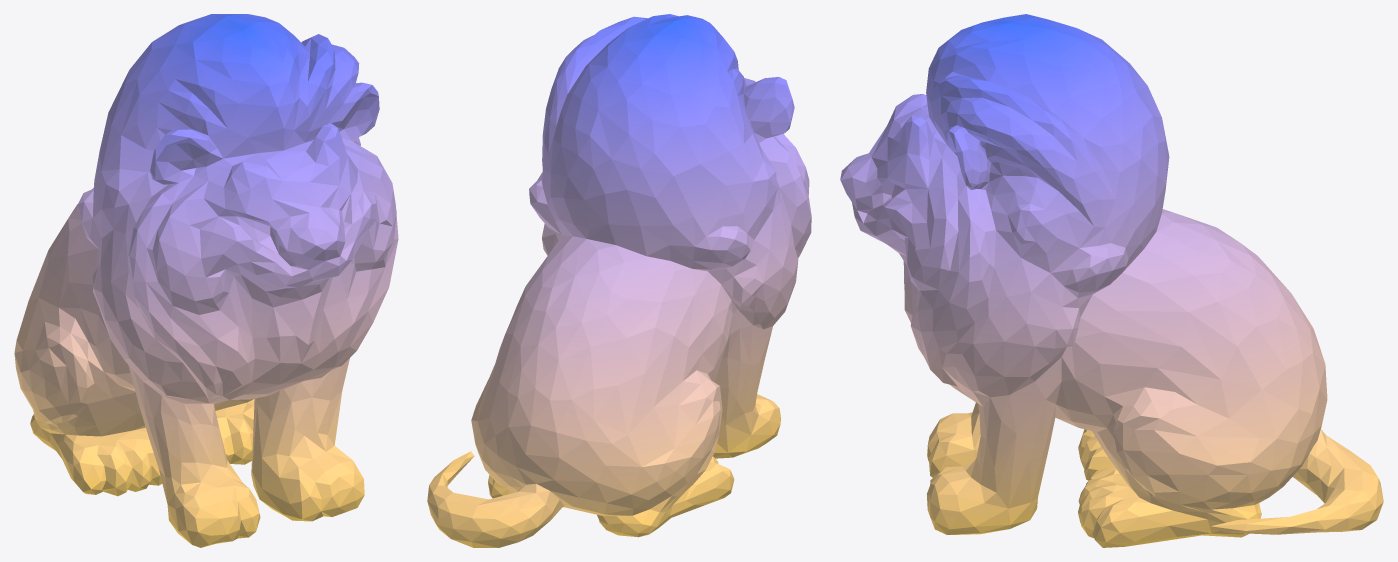
The model's file is 170_cyb_laser_gradient_fish_scales_2982_2026_10_03_ea7d7a.glb.
3 views of the same model, side by side, from view 1: azimuth 30°, elevation 25°; view 2: azimuth 150°, elevation 25°; view 3: azimuth 270°, elevation 25° (orthographic). The views are drawn at different scales.
Visible parts, largest first — view 1: geometry_0; view 2: geometry_0; view 3: geometry_0.
Boxes of the visible parts, x1,y1,x2,y2 form: geometry_0: (14, 14, 398, 547); geometry_0: (427, 14, 811, 547); geometry_0: (840, 14, 1383, 547).
Bounding box in the file's own units: 0.4905 × 0.846 × 0.8748.
